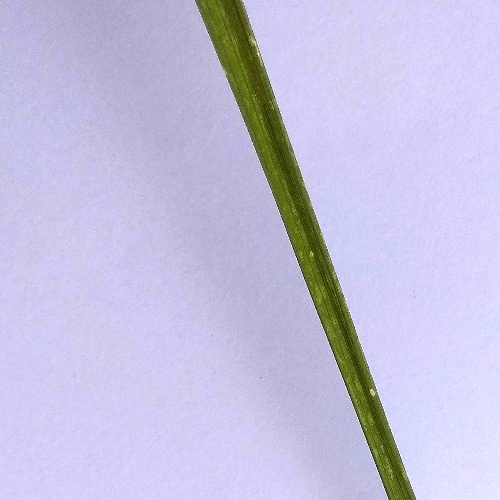Busuk Leher: (258, 80, 289, 122), (245, 26, 268, 66), (366, 380, 386, 400)
